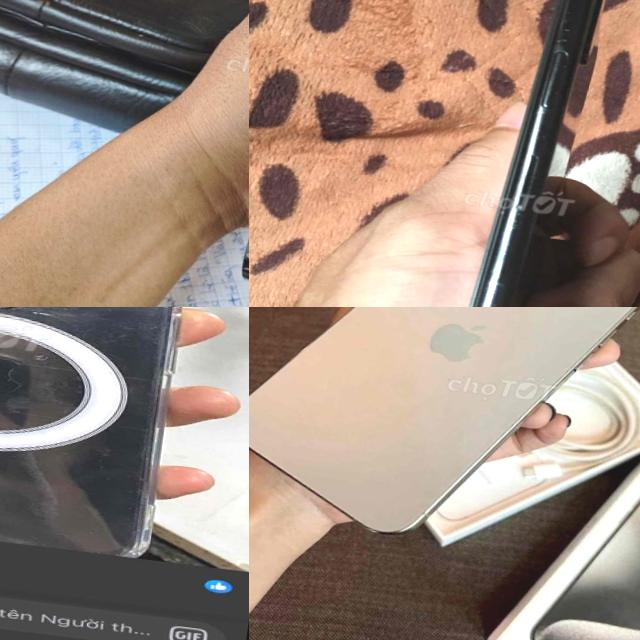scratch: (499, 196, 537, 287), (463, 283, 509, 307)
